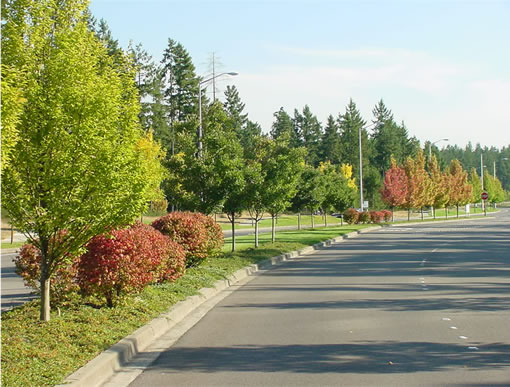tree: (258, 138, 307, 254)
